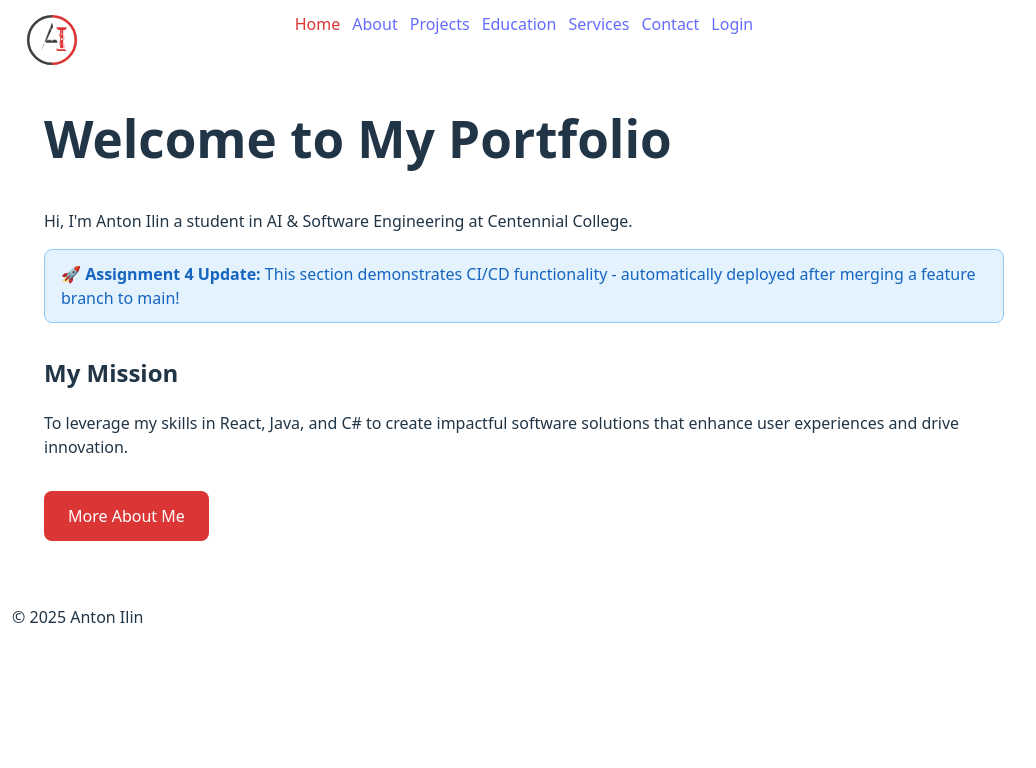
Test: Portfolio App E2E Tests › Navigation Tests › navigates to Contact page
This screenshot has width=1036, height=768.
Click the link "Contact": (670, 24) [641,12,699,36]
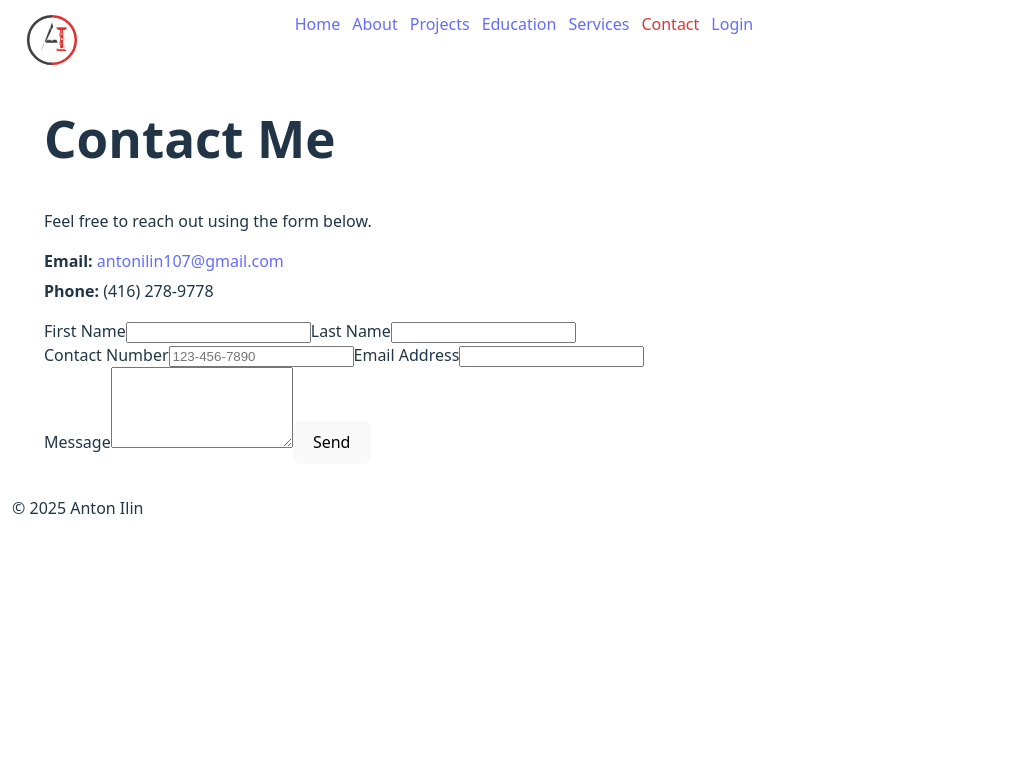
Expected: the heading "Contact Me" is shown, [44,104,335,174]
